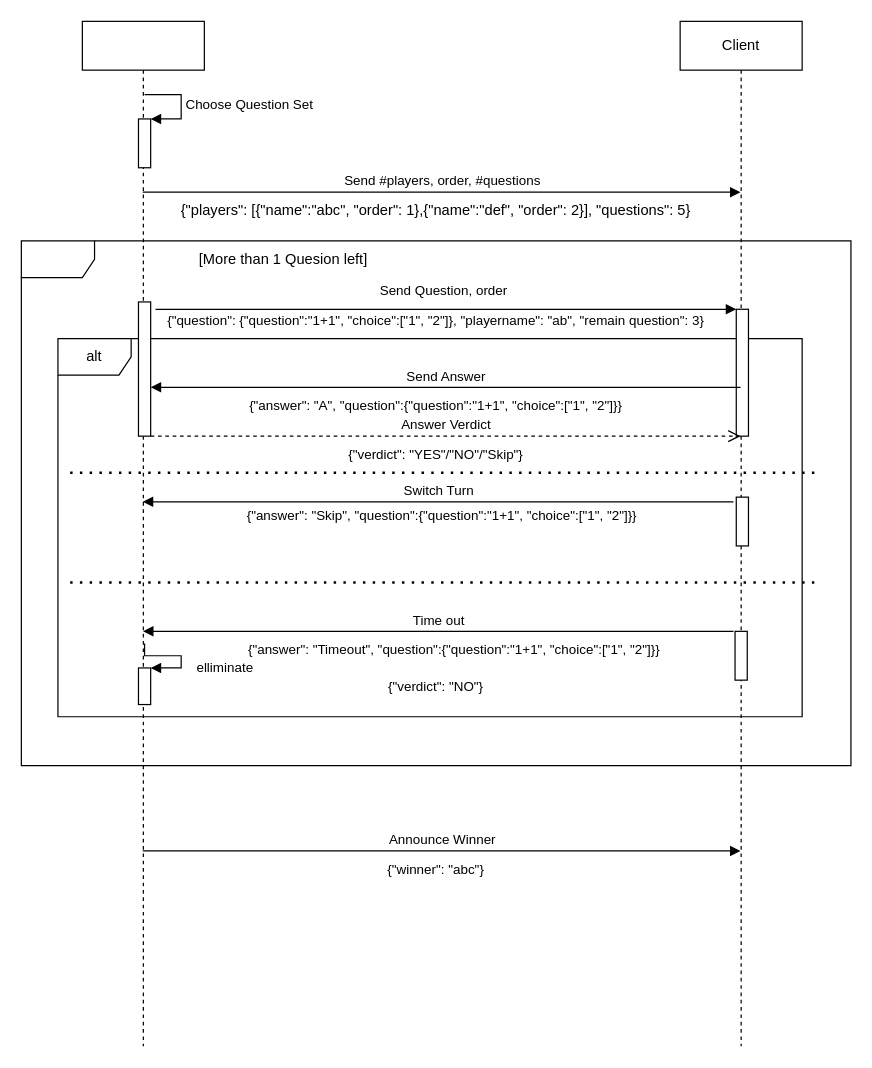
Some shapes in this 872 by 1068 pixel diagram are drawn without their labels. The shapes that lost their labels are listed below. From the top down, each one's box as (x1, y1, x2, y2) in pixels, then its label:
(20, 240, 851, 766): loop
(81, 20, 204, 1046): Server
